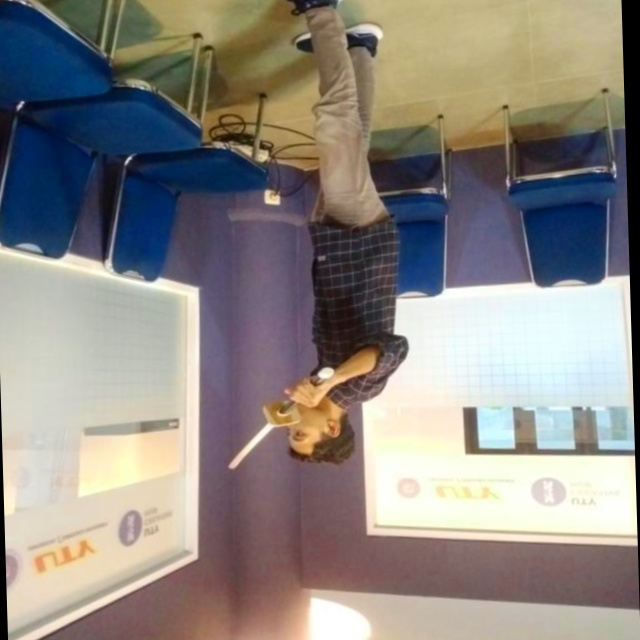Sharp-Object: (213, 355, 330, 469)
